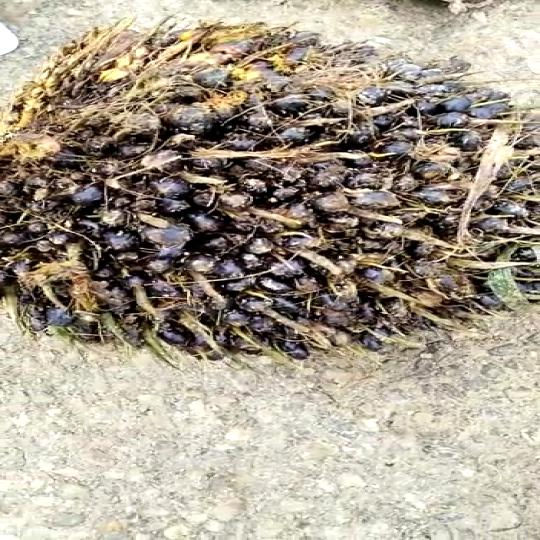mentah: (0, 18, 540, 365)
